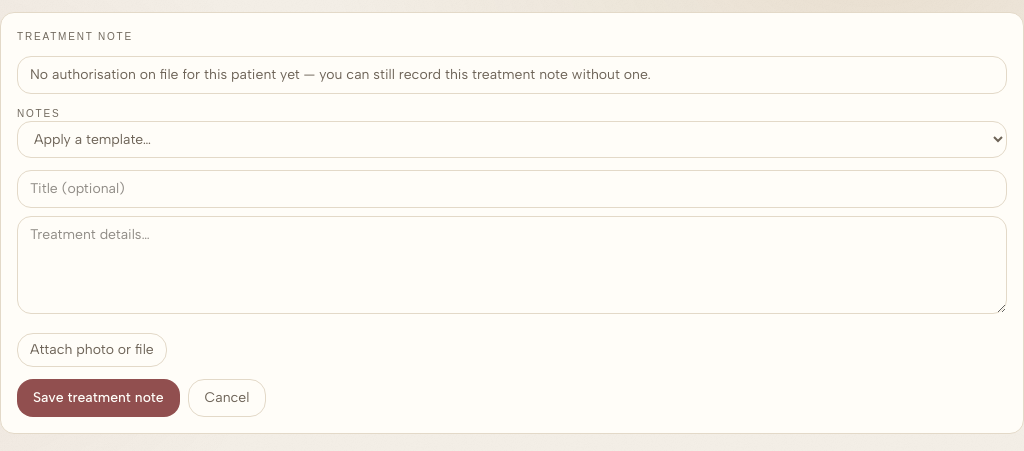
Test: TreatmentNoteForm › prefills the body from a chosen note template while leaving it editable
Step 1. Select "Standard antiwrinkle" in the dropdown → x=512, y=140, box [17,121,1007,158]
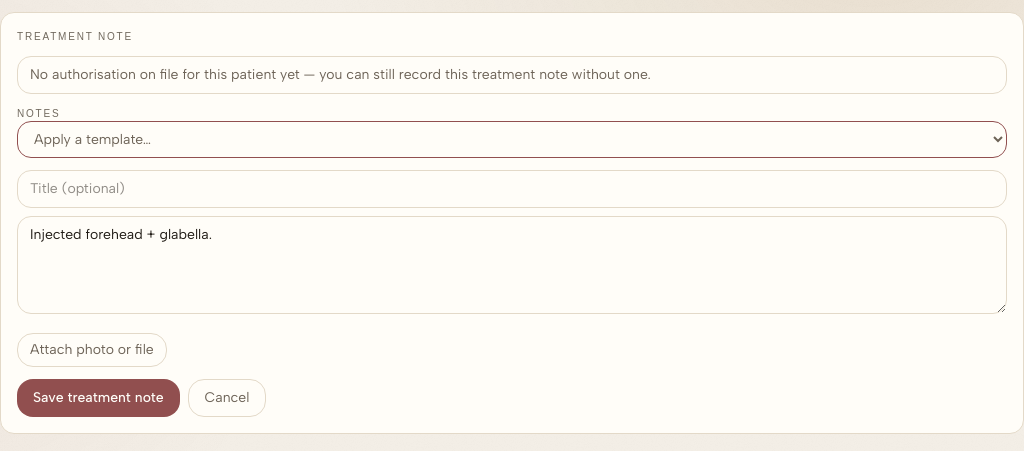
Check: the text box with placeholder "Treatment details…" holds "Injected forehead + glabella."
Step 2. Type " Tolerated well." into the text box with placeholder "Treatment details…" → x=512, y=265, box [17,216,1007,314]
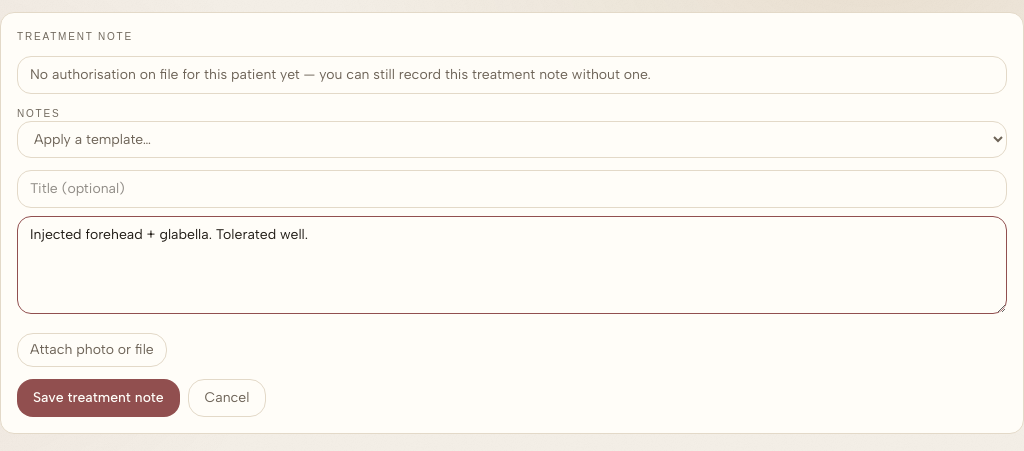
Check: the text box with placeholder "Treatment details…" holds "Injected forehead + glabella. Tolerated well.", box [17,216,1007,314]
